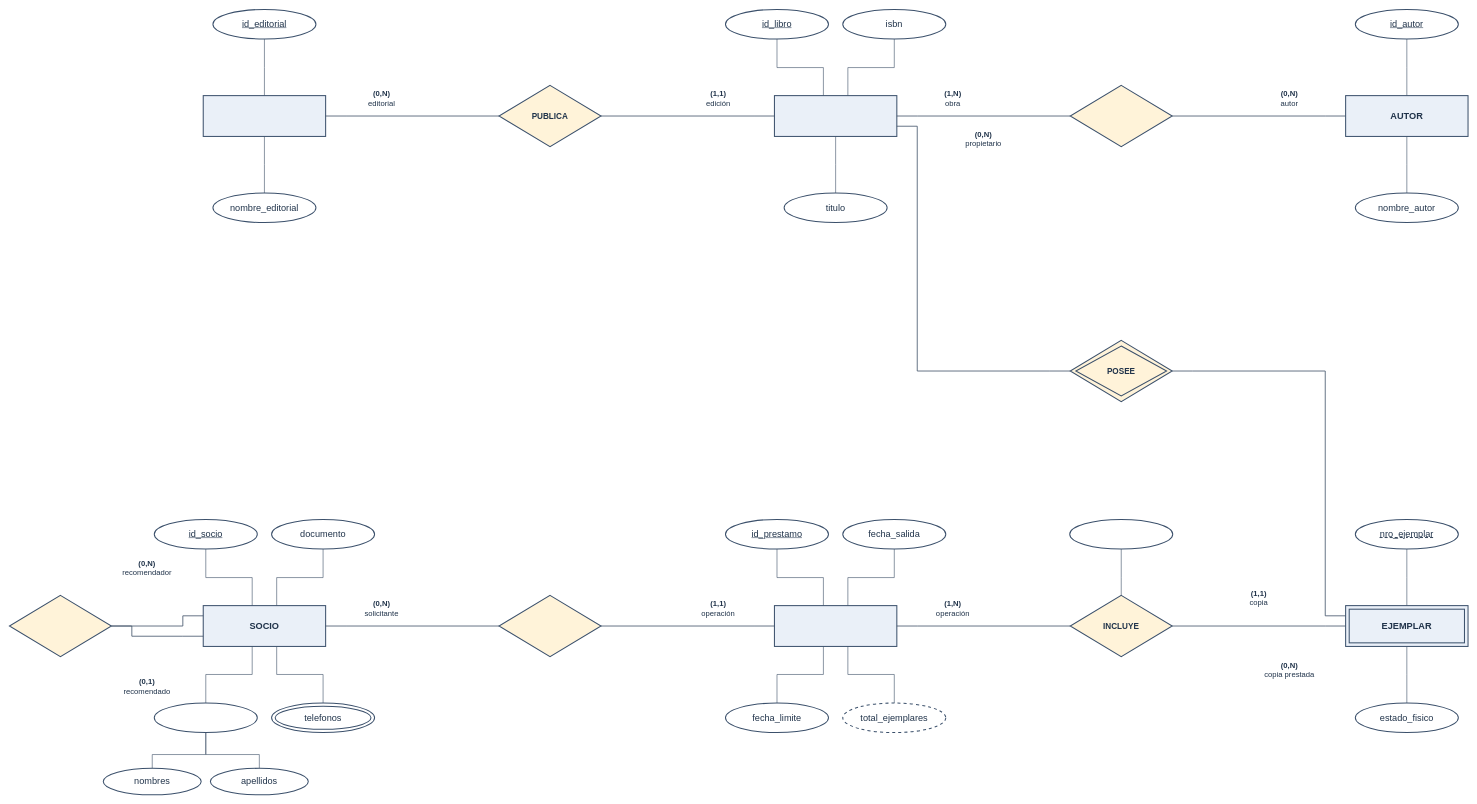
Image size: 1477x804. Some labels were removed from this diagram. The shapes that lost their labels are listed below. From the top down, each one's centre as x and y in pixels, then its label:
At (264,116): "EDITORIAL".
At (835,116): "LIBRO".
At (1120,116): "ESCRIBE".
At (1121,534): "fecha_devolucion".
At (60,626): "RECOMIENDA".
At (549,626): "REALIZA".
At (835,626): "PRESTAMO".
At (206,717): "nombre".
